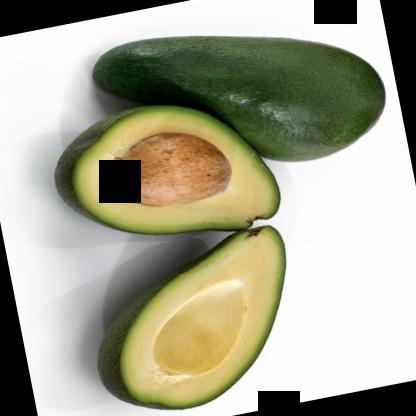avocado: (84, 0, 396, 200), (70, 221, 311, 415), (45, 82, 283, 258)
